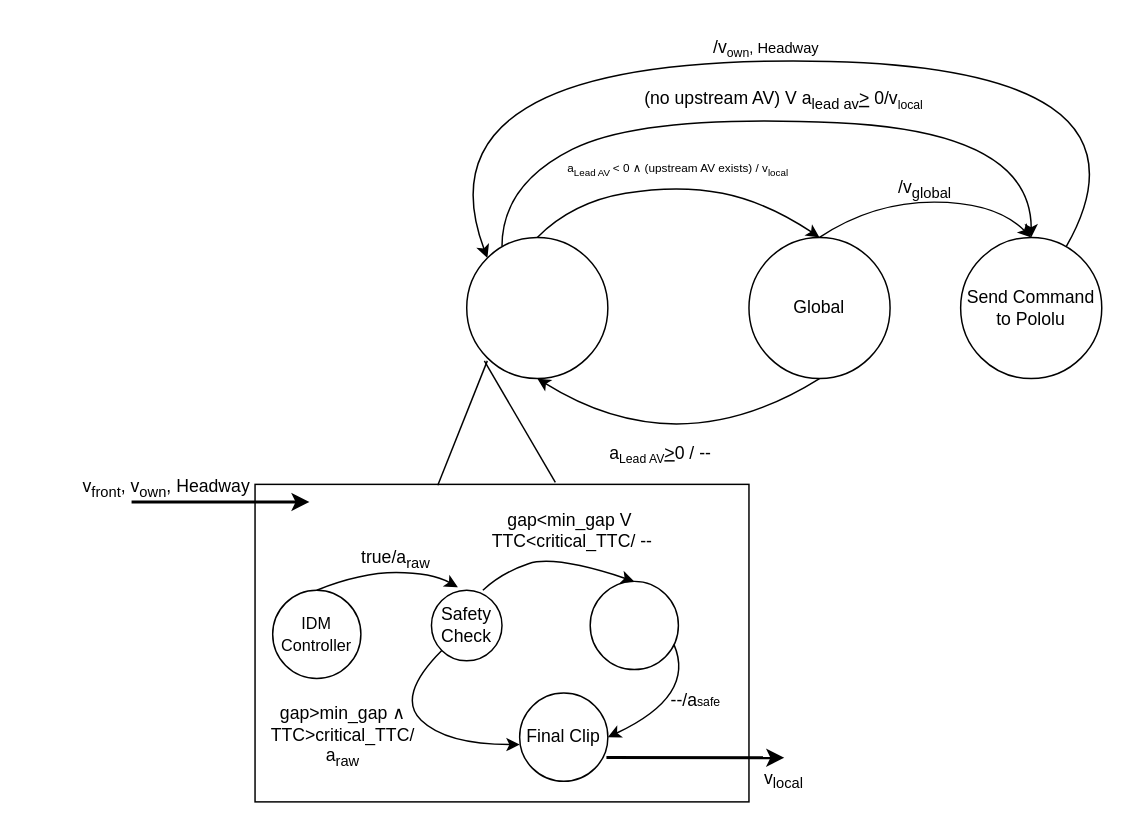
Image size: 1127x828. Some labels were removed from this diagram. The centre of each missing label's shape, as x and y in pixels:
Acc. Override: the point at 633,625
Local: the point at 536,307
